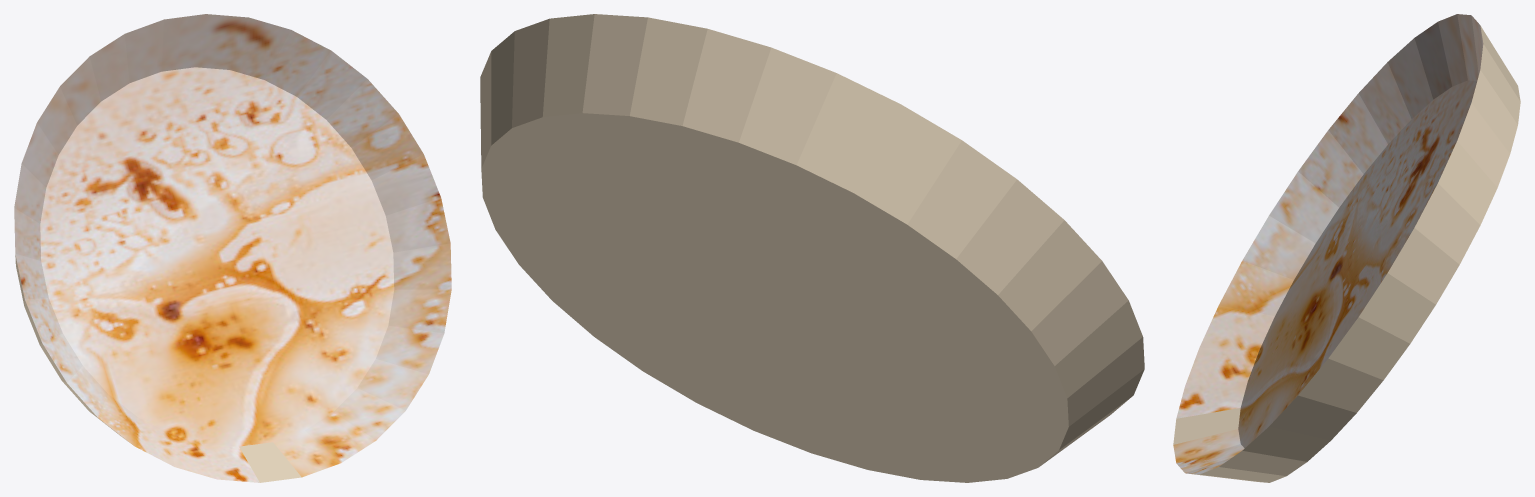
Rendered from plato_sucio_2.obj.
3 renders of one model, left to right at view 1: azimuth 30°, elevation 25°; view 2: azimuth 150°, elevation 25°; view 3: azimuth 270°, elevation 25°, orthographic. The views are drawn at different scales.
Visible parts, largest first — view 1: Cilindro.035_Cilindro.038; view 2: Cilindro.035_Cilindro.038; view 3: Cilindro.035_Cilindro.038.
Part boxes in pixels (box(x1,y1,x2,y2)): Cilindro.035_Cilindro.038: box(14, 14, 451, 482); Cilindro.035_Cilindro.038: box(480, 14, 1144, 482); Cilindro.035_Cilindro.038: box(1173, 14, 1520, 482).
Bounding box in the file's own units: 0.24 × 0.2024 × 0.1542.
